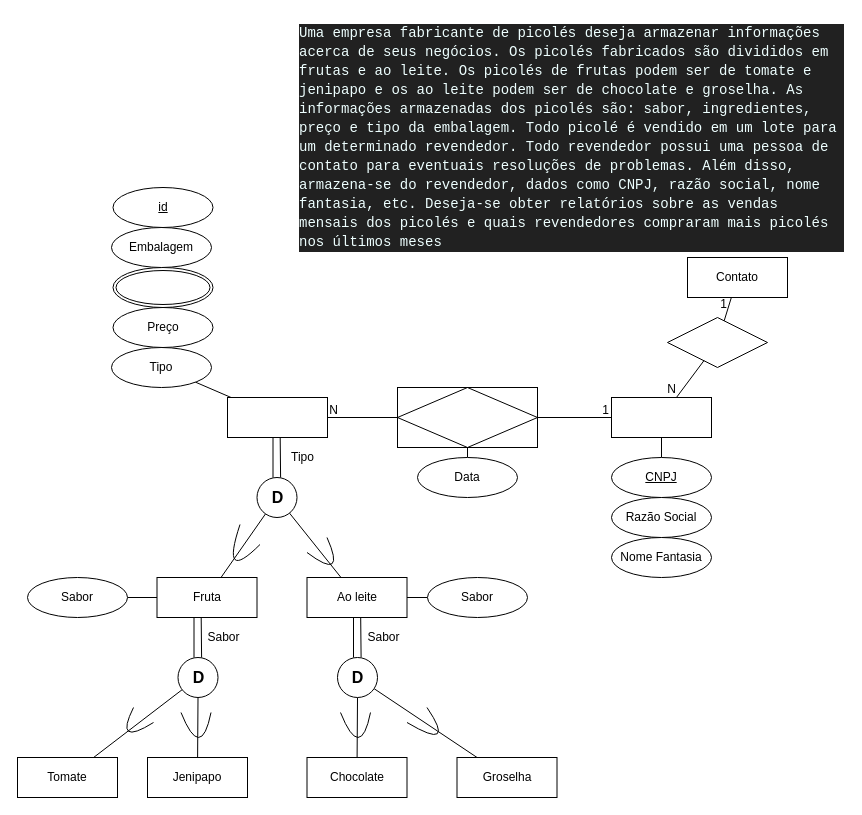
Image size: 862x815. Some labels were removed from this diagram. The centre of each missing label's shape, as x and y in pixels:
"Compra" belongs at point 467,417.
"Ingredientes" belongs at point 162,287.
"Picolé" belongs at point 277,417.
"Resolve" belongs at point 717,342.
"Revendedor" belongs at point 661,417.
